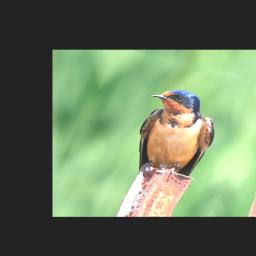Swallow: (113, 84, 233, 189)
